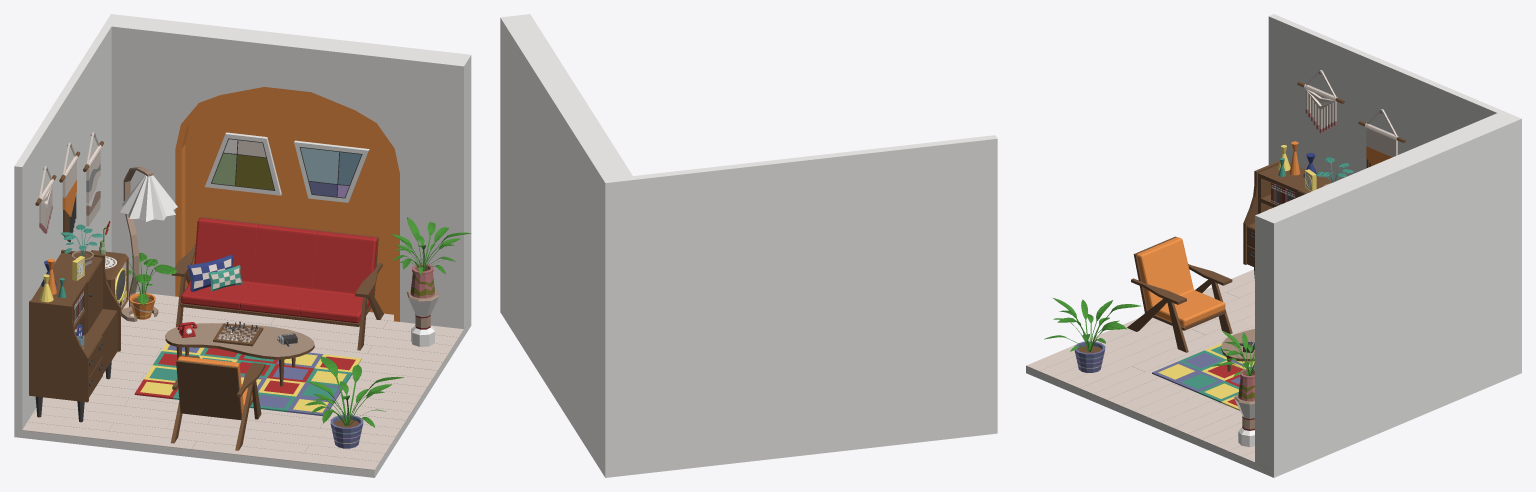
Rendered from Room_19_Livingroom.fbx.
The picture shows the model from 3 angles, left to right: view 1: azimuth 30°, elevation 25°; view 2: azimuth 150°, elevation 25°; view 3: azimuth 270°, elevation 25°; orthographic projection. The views are drawn at different scales.
Parts seen in each view (by area): view 1: Room_19_Wall, Room_19_Parquet, Room_19_Base, Room_19_Couch, Room_19_Cupboard, Room_19_Carpet, Room_19_Armchair, Room_19_Picture_2, Room_19_Picture_1, Room_19_Table, Room_19_Lamp, Room_19_Plant_1 (+11 smaller); view 2: Room_19_Base, Room_19_Wall; view 3: Room_19_Wall, Room_19_Base, Room_19_Parquet, Room_19_Armchair, Room_19_Carpet, Room_19_Cupboard, Room_19_Plant_1, Room_19_Macrame_1, Room_19_Macrame_3, Room_19_Plant_2, Room_19_Stand, Room_19_Table.
Part boxes in pixels (x1,y1,x2,y2): Room_19_Wall: [111, 15, 471, 329]; Room_19_Parquet: [22, 291, 469, 470]; Room_19_Base: [14, 14, 471, 477]; Room_19_Couch: [171, 217, 383, 350]; Room_19_Cupboard: [29, 249, 120, 422]; Room_19_Carpet: [134, 343, 361, 415]; Room_19_Armchair: [171, 355, 265, 450]; Room_19_Picture_2: [205, 132, 281, 195]; Room_19_Picture_1: [294, 140, 369, 202]; Room_19_Table: [165, 323, 314, 386]; Room_19_Lamp: [120, 167, 177, 321]; Room_19_Plant_1: [305, 356, 403, 448]; Room_19_Base: [500, 135, 997, 477]; Room_19_Wall: [500, 14, 632, 465]; Room_19_Wall: [1255, 113, 1516, 470]; Room_19_Base: [1026, 14, 1521, 477]; Room_19_Parquet: [1026, 269, 1268, 468]; Room_19_Armchair: [1127, 236, 1232, 352]; Room_19_Carpet: [1152, 343, 1254, 410]; Room_19_Cupboard: [1243, 160, 1334, 278]; Room_19_Plant_1: [1044, 298, 1140, 372]; Room_19_Macrame_1: [1297, 70, 1344, 133]; Room_19_Macrame_3: [1358, 109, 1405, 167]; Room_19_Plant_2: [1212, 331, 1254, 401]; Room_19_Stand: [1234, 393, 1254, 447]; Room_19_Table: [1221, 329, 1254, 371].
Bounding box in the file's own units: 707 × 707 × 401.
